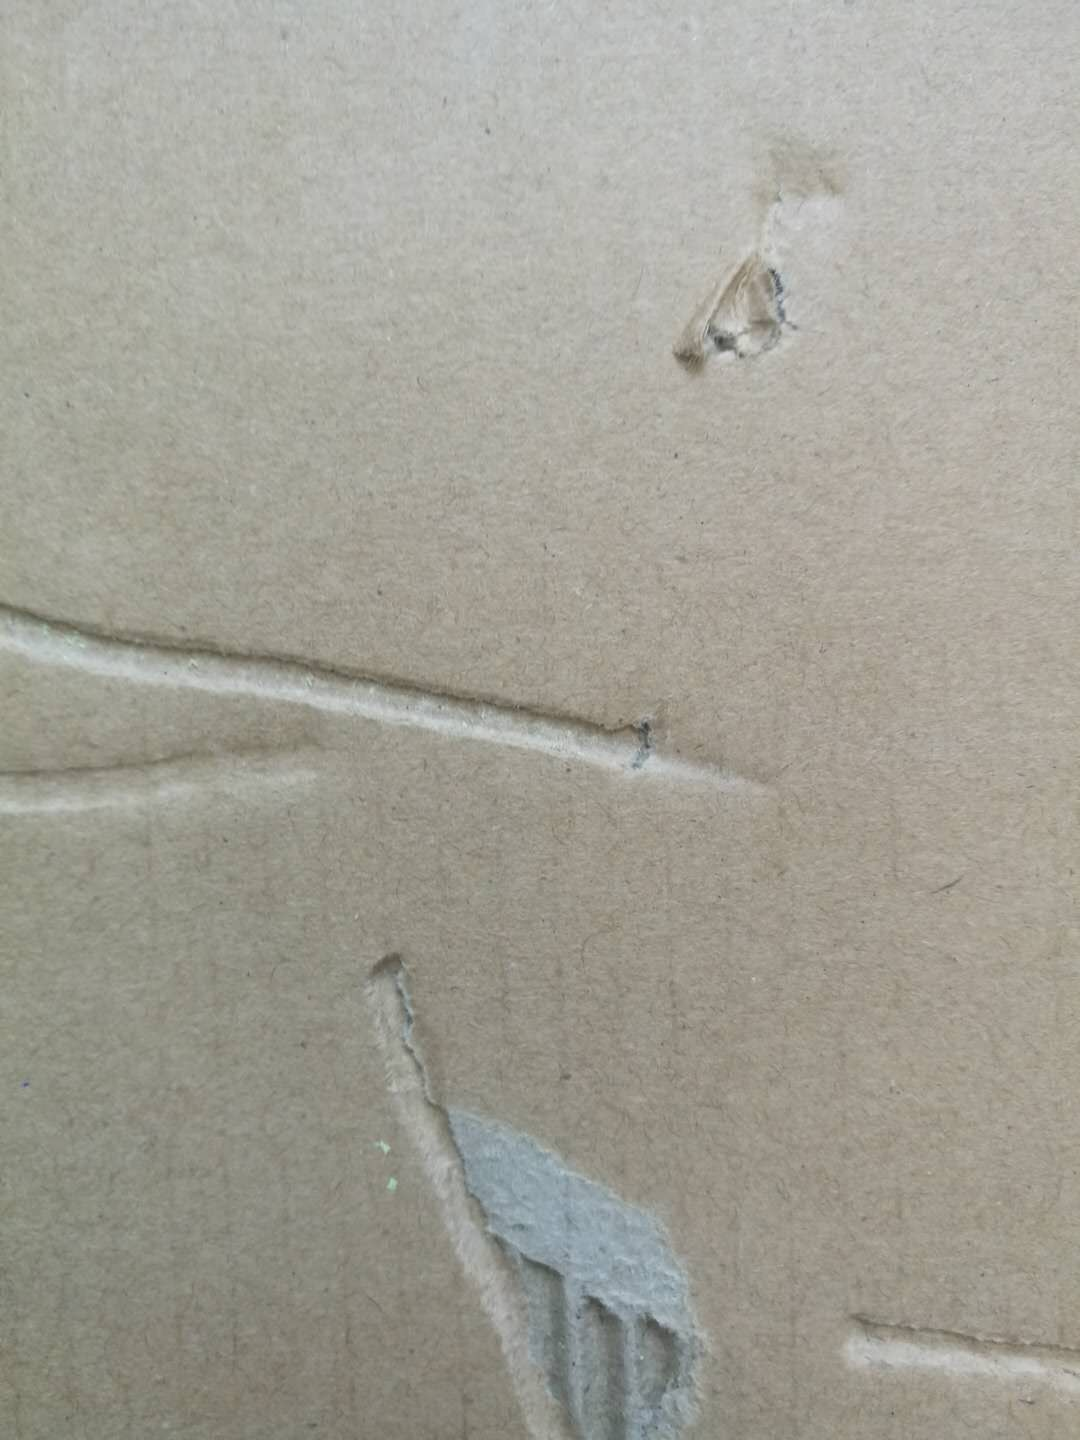defect: (2, 562, 825, 856), (332, 918, 762, 1440), (639, 113, 868, 404), (825, 1276, 1080, 1424)
